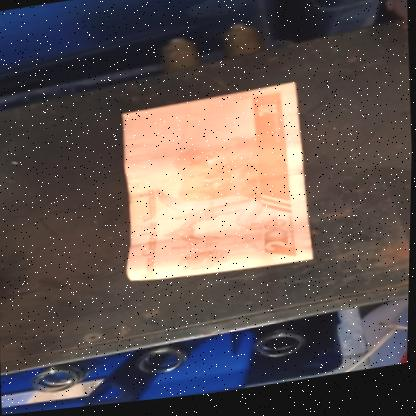twenty-back-vef: (118, 85, 317, 292)
